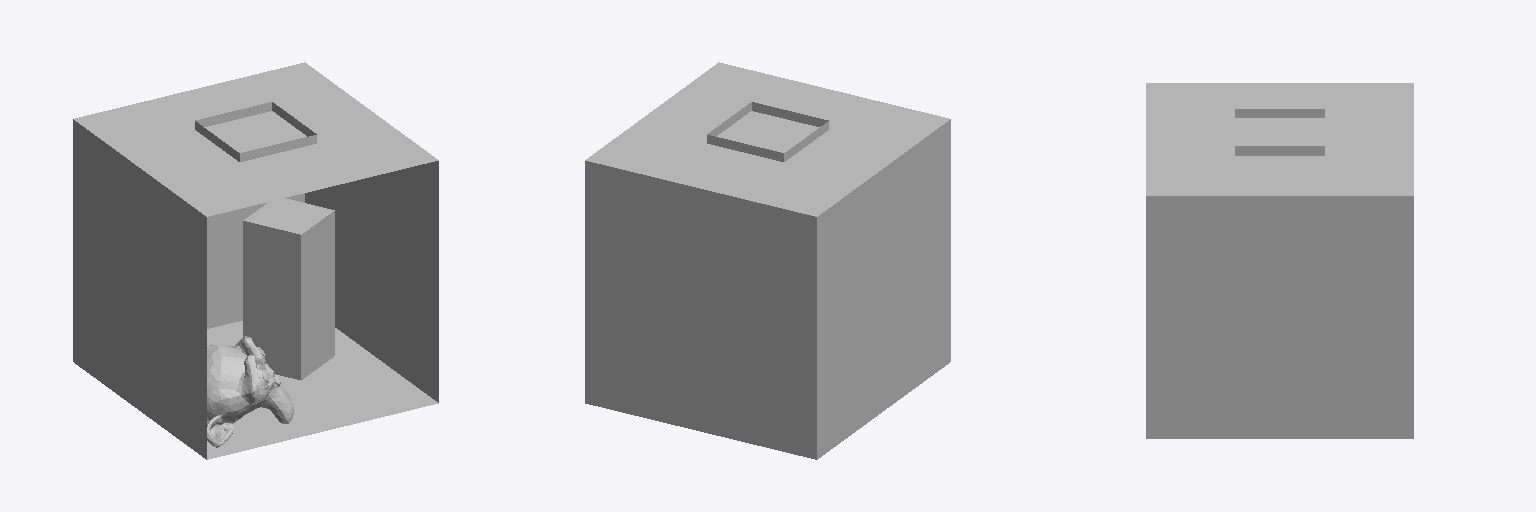
The model's file is test5-subdivide.obj.
3 renders of one model, left to right at view 1: azimuth 30°, elevation 25°; view 2: azimuth 150°, elevation 25°; view 3: azimuth 270°, elevation 25°, orthographic.
Parts seen in each view (by area): view 1: Cube, Cube.002_Cube.005, Cube.003_Cube.006, Cube.001_Cube.004, Suzanne, Plane; view 2: Cube, Cube.002_Cube.005, Plane; view 3: Cube.003_Cube.006, Cube, Plane.
Boxes of the visible parts, x1=… form: Cube: x1=74, y1=62, x2=438, y2=459; Cube.002_Cube.005: x1=73, y1=119, x2=206, y2=459; Cube.003_Cube.006: x1=305, y1=161, x2=438, y2=402; Cube.001_Cube.004: x1=243, y1=198, x2=334, y2=380; Suzanne: x1=207, y1=336, x2=293, y2=447; Plane: x1=165, y1=98, x2=346, y2=174; Cube: x1=585, y1=62, x2=949, y2=459; Cube.002_Cube.005: x1=817, y1=119, x2=950, y2=459; Plane: x1=677, y1=98, x2=858, y2=174; Cube.003_Cube.006: x1=1146, y1=196, x2=1413, y2=438; Cube: x1=1146, y1=83, x2=1413, y2=195; Plane: x1=1213, y1=108, x2=1346, y2=164.
Bounding box in the file's own units: 4 × 4.23 × 4.